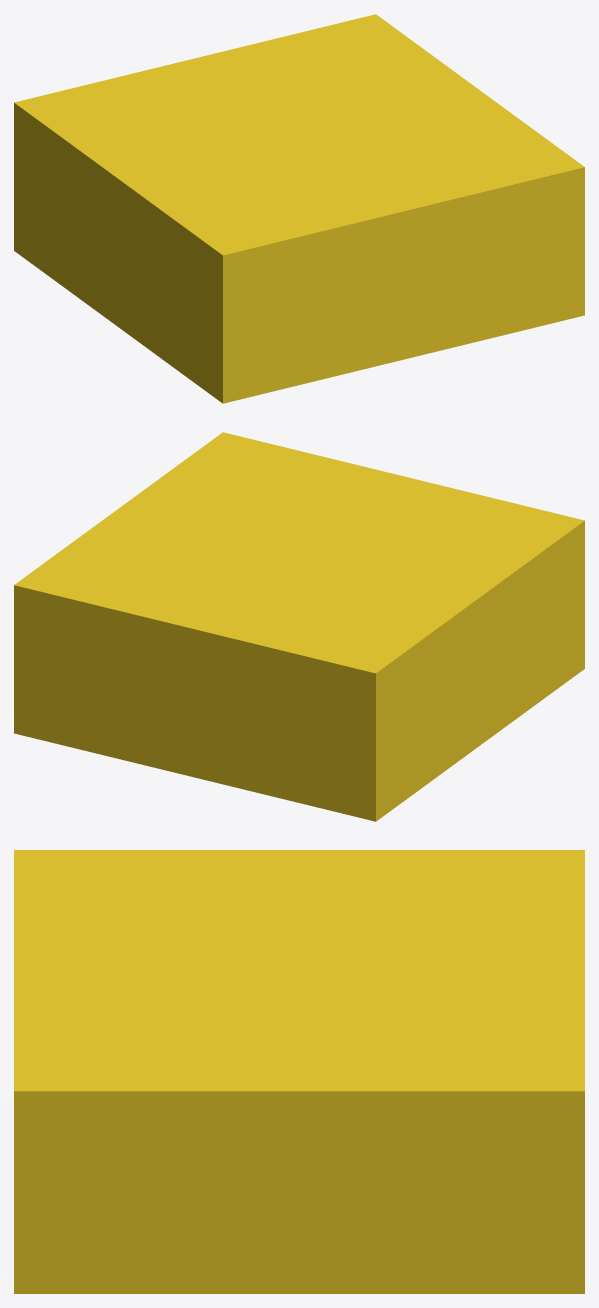
3 renders of one model, top to bottom at view 1: azimuth 30°, elevation 25°; view 2: azimuth 150°, elevation 25°; view 3: azimuth 270°, elevation 25°, orthographic. The views are drawn at different scales.
Parts seen in each view (by area): view 1: X20_sh_12, X20_sh_2, X20_sh_19, X20_sh_11, X20_sh_18, X20_sh_1, X20_sh_13, X20_sh_4, X20_sh_15, X20_sh_14, X20_sh_10, X20_sh_20 (+4 smaller); view 2: X20_sh_10, X20_sh_4, X20_sh_11, X20_sh_19, X20_sh_18, X20_sh_2, X20_sh_6, X20_sh_3, X20_sh_13, X20_sh_14, X20_sh_20, X20_sh_5 (+3 smaller); view 3: X20_sh_4, X20_sh_15, X20_sh_8, X20_sh_11, X20_sh_2, X20_sh_14, X20_sh_18, X20_sh_9, X20_sh_20, X20_sh_6, X20_sh_5, X20_sh_7 (+3 smaller).
Boxes of the visible parts, bbox=[...] form: X20_sh_12: bbox=[249, 200, 411, 397]; X20_sh_2: bbox=[294, 142, 529, 291]; X20_sh_19: bbox=[128, 219, 258, 403]; X20_sh_11: bbox=[95, 143, 299, 253]; X20_sh_18: bbox=[35, 107, 266, 210]; X20_sh_1: bbox=[398, 219, 534, 360]; X20_sh_13: bbox=[33, 190, 132, 334]; X20_sh_4: bbox=[242, 14, 452, 82]; X20_sh_15: bbox=[476, 87, 584, 224]; X20_sh_14: bbox=[371, 74, 506, 172]; X20_sh_10: bbox=[14, 72, 137, 264]; X20_sh_20: bbox=[260, 79, 369, 154]; X20_sh_10: bbox=[186, 625, 402, 821]; X20_sh_4: bbox=[14, 529, 188, 739]; X20_sh_11: bbox=[332, 522, 534, 650]; X20_sh_19: bbox=[490, 512, 584, 737]; X20_sh_18: bbox=[306, 560, 459, 742]; X20_sh_2: bbox=[273, 446, 448, 542]; X20_sh_6: bbox=[148, 602, 323, 729]; X20_sh_3: bbox=[41, 649, 188, 775]; X20_sh_13: bbox=[395, 638, 494, 807]; X20_sh_14: bbox=[96, 458, 279, 525]; X20_sh_20: bbox=[151, 529, 339, 576]; X20_sh_5: bbox=[175, 566, 323, 607]; X20_sh_4: bbox=[374, 996, 584, 1293]; X20_sh_15: bbox=[14, 1048, 350, 1214]; X20_sh_8: bbox=[117, 1207, 425, 1293]; X20_sh_11: bbox=[78, 850, 363, 956]; X20_sh_2: bbox=[14, 923, 244, 1053]; X20_sh_14: bbox=[52, 1001, 376, 1210]; X20_sh_18: bbox=[299, 850, 527, 948]; X20_sh_9: bbox=[14, 1170, 127, 1293]; X20_sh_20: bbox=[235, 949, 441, 1043]; X20_sh_6: bbox=[434, 908, 584, 1001]; X20_sh_5: bbox=[320, 933, 536, 1009]; X20_sh_7: bbox=[229, 988, 404, 1194].
Bounding box in the file's own units: 200 × 78.27 × 200.
